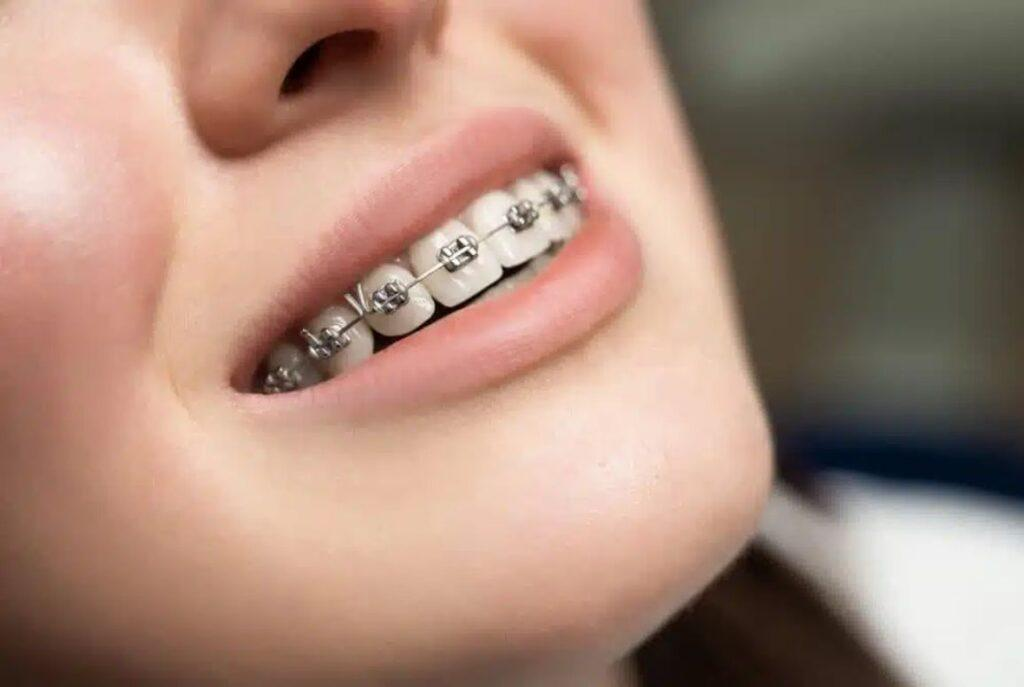Braces: (240, 180, 600, 397)
